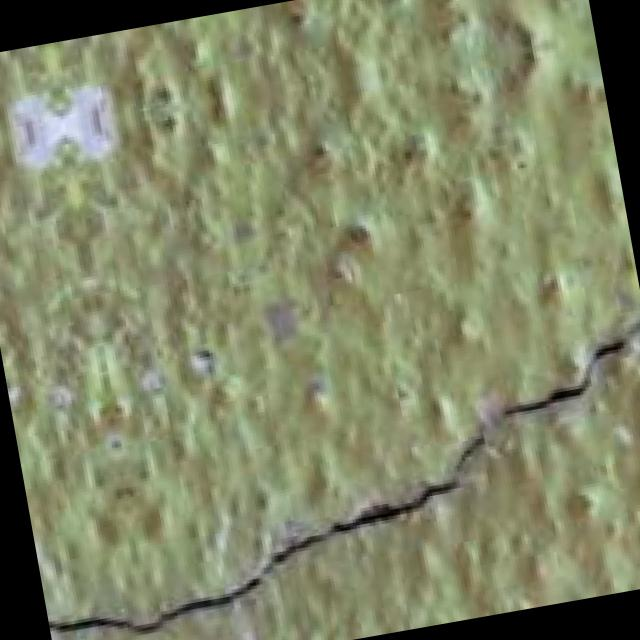crack: (10, 280, 640, 640)
